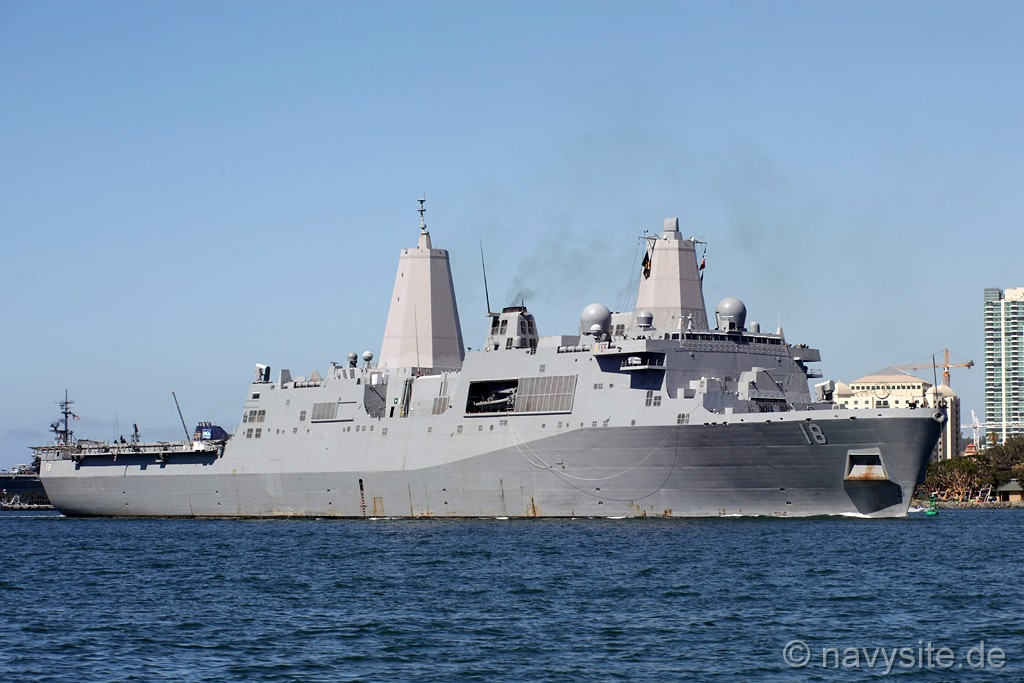rust: (624, 497, 676, 515), (850, 461, 883, 479), (518, 496, 544, 516), (368, 495, 387, 517)
